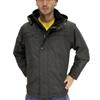abbigliamento_uomo: (13, 9, 90, 100)
